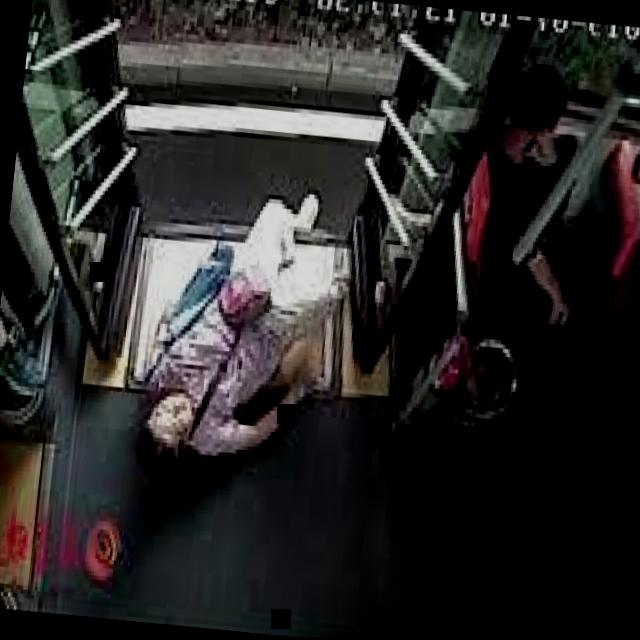Fall-Detected: (115, 135, 358, 498)
